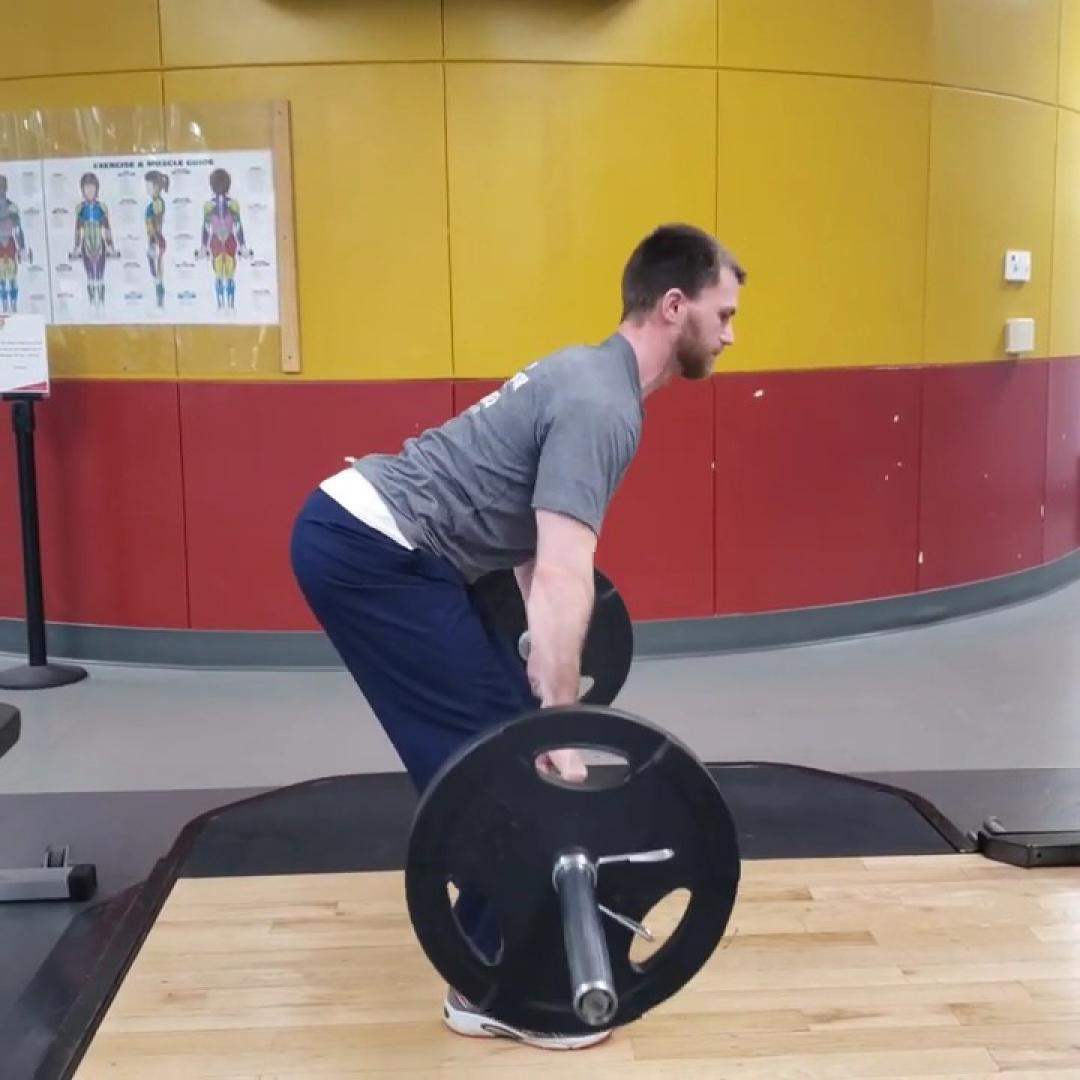Bar: (573, 981, 619, 1026)
Barbell: (404, 711, 740, 1037)
